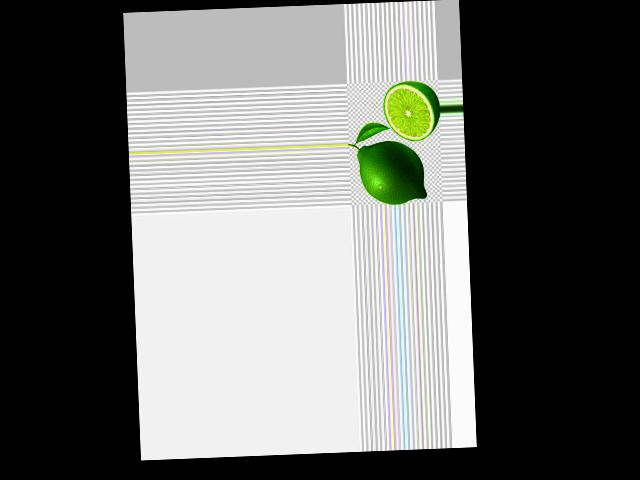lemon: (354, 136, 431, 206)
